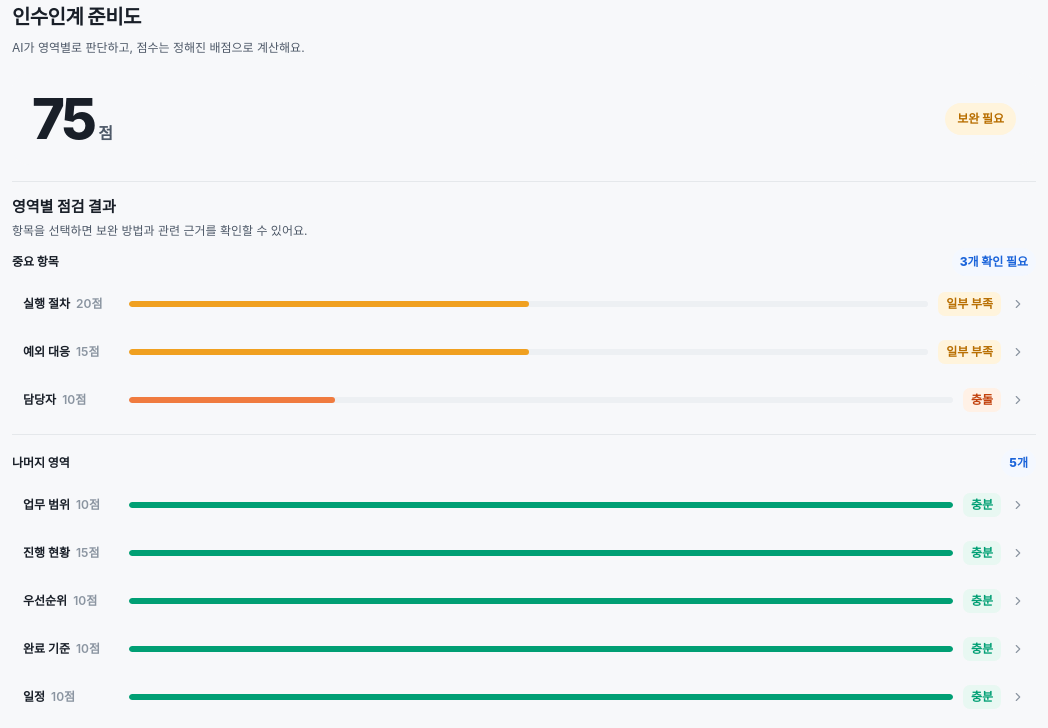
Test: ReadinessPanel › shows a repeated evidence file only once
What coordinates should you click on to do the following:
click the button "실행 절차 20점 일부 부족"
I would click on:
 (524, 304)
Its box is [12,282,1036,326].
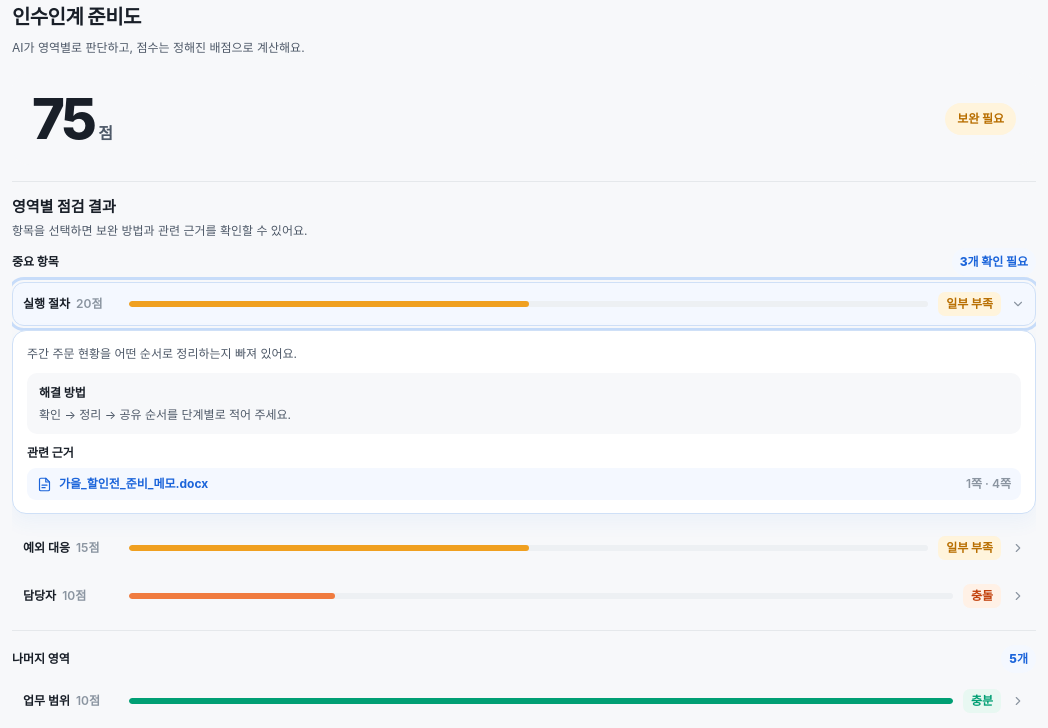
Expected: the text "가을_할인전_준비_메모.docx" is shown once, [59,475,208,493]
